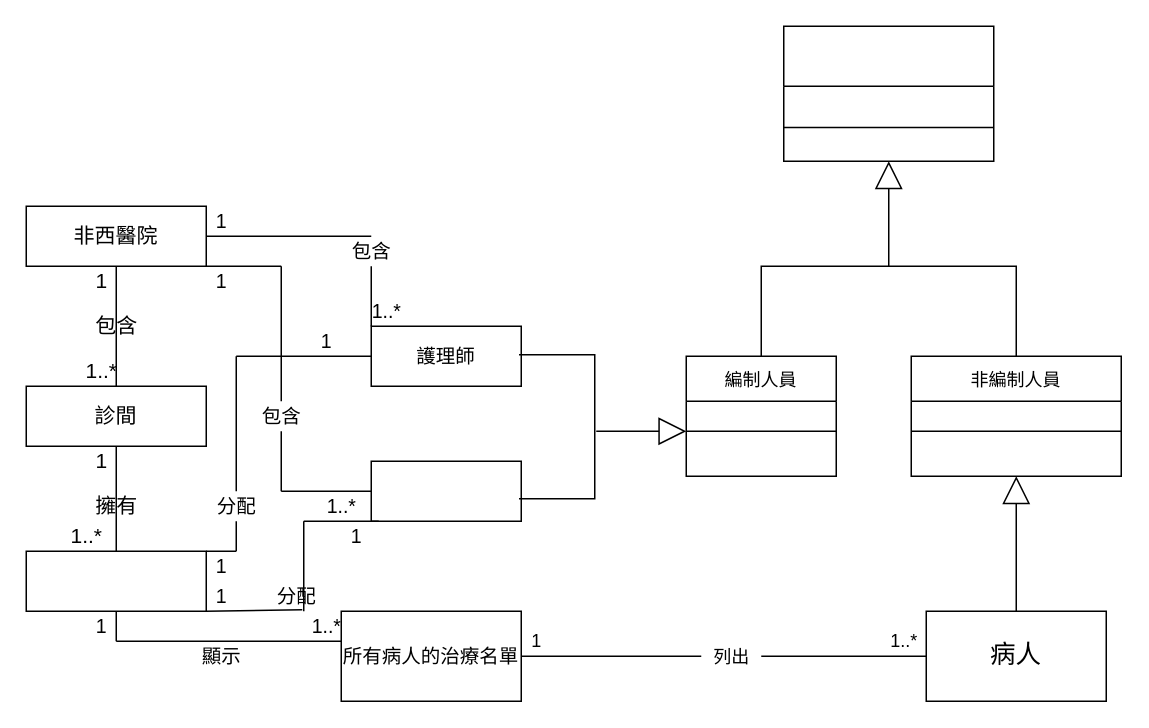
Some shapes in this 1149 by 728 pixel diagram are drawn without their labels. Each missing label, with the centre of its shape:
"人員名單" belongs at point 888,93.
"時段" belongs at point 115,580.
"醫師" belongs at point 445,490.
